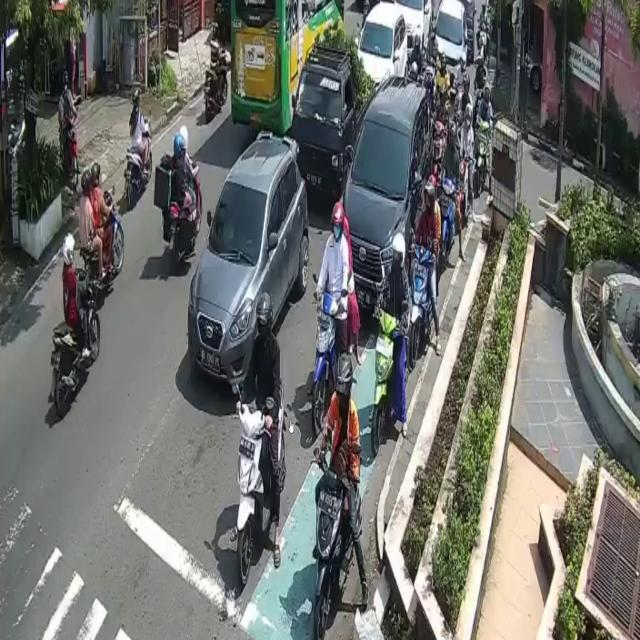bus: (234, 390, 290, 583), (313, 458, 360, 640), (46, 270, 101, 414), (78, 190, 125, 278), (371, 306, 399, 452), (314, 292, 343, 430), (168, 158, 202, 265), (410, 243, 433, 361), (125, 118, 152, 208), (63, 112, 82, 195), (476, 118, 494, 186), (442, 174, 457, 252)
car: (230, 0, 345, 127)
motorcycle: (188, 131, 308, 393), (341, 77, 434, 322), (290, 42, 376, 200), (358, 0, 409, 84), (434, 0, 468, 95), (394, 0, 431, 58)
